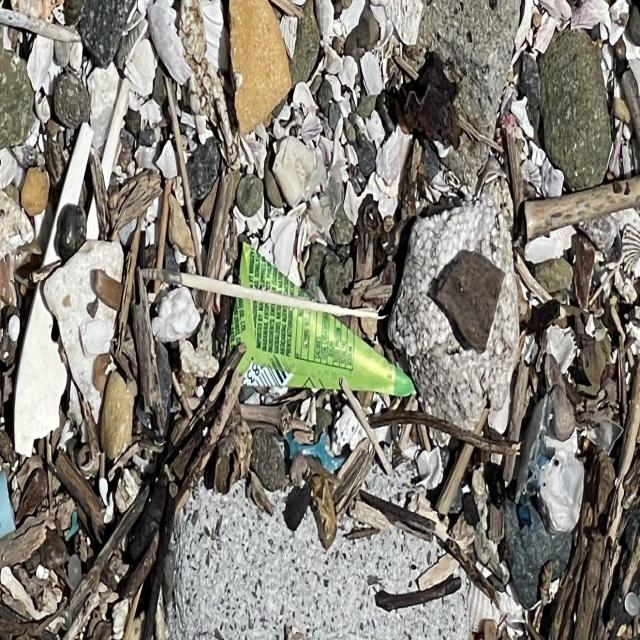plastic_waste: (223, 246, 419, 405)
styrofoam_waste: (388, 198, 520, 426)
